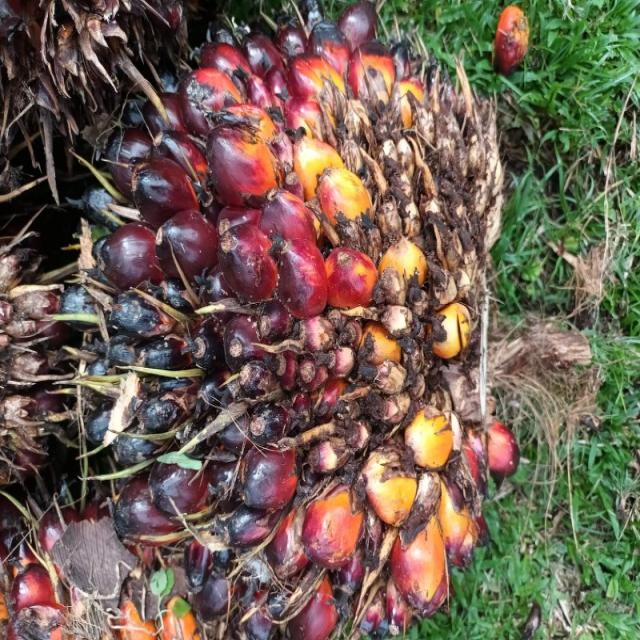fraksi 1: (6, 72, 449, 640)
